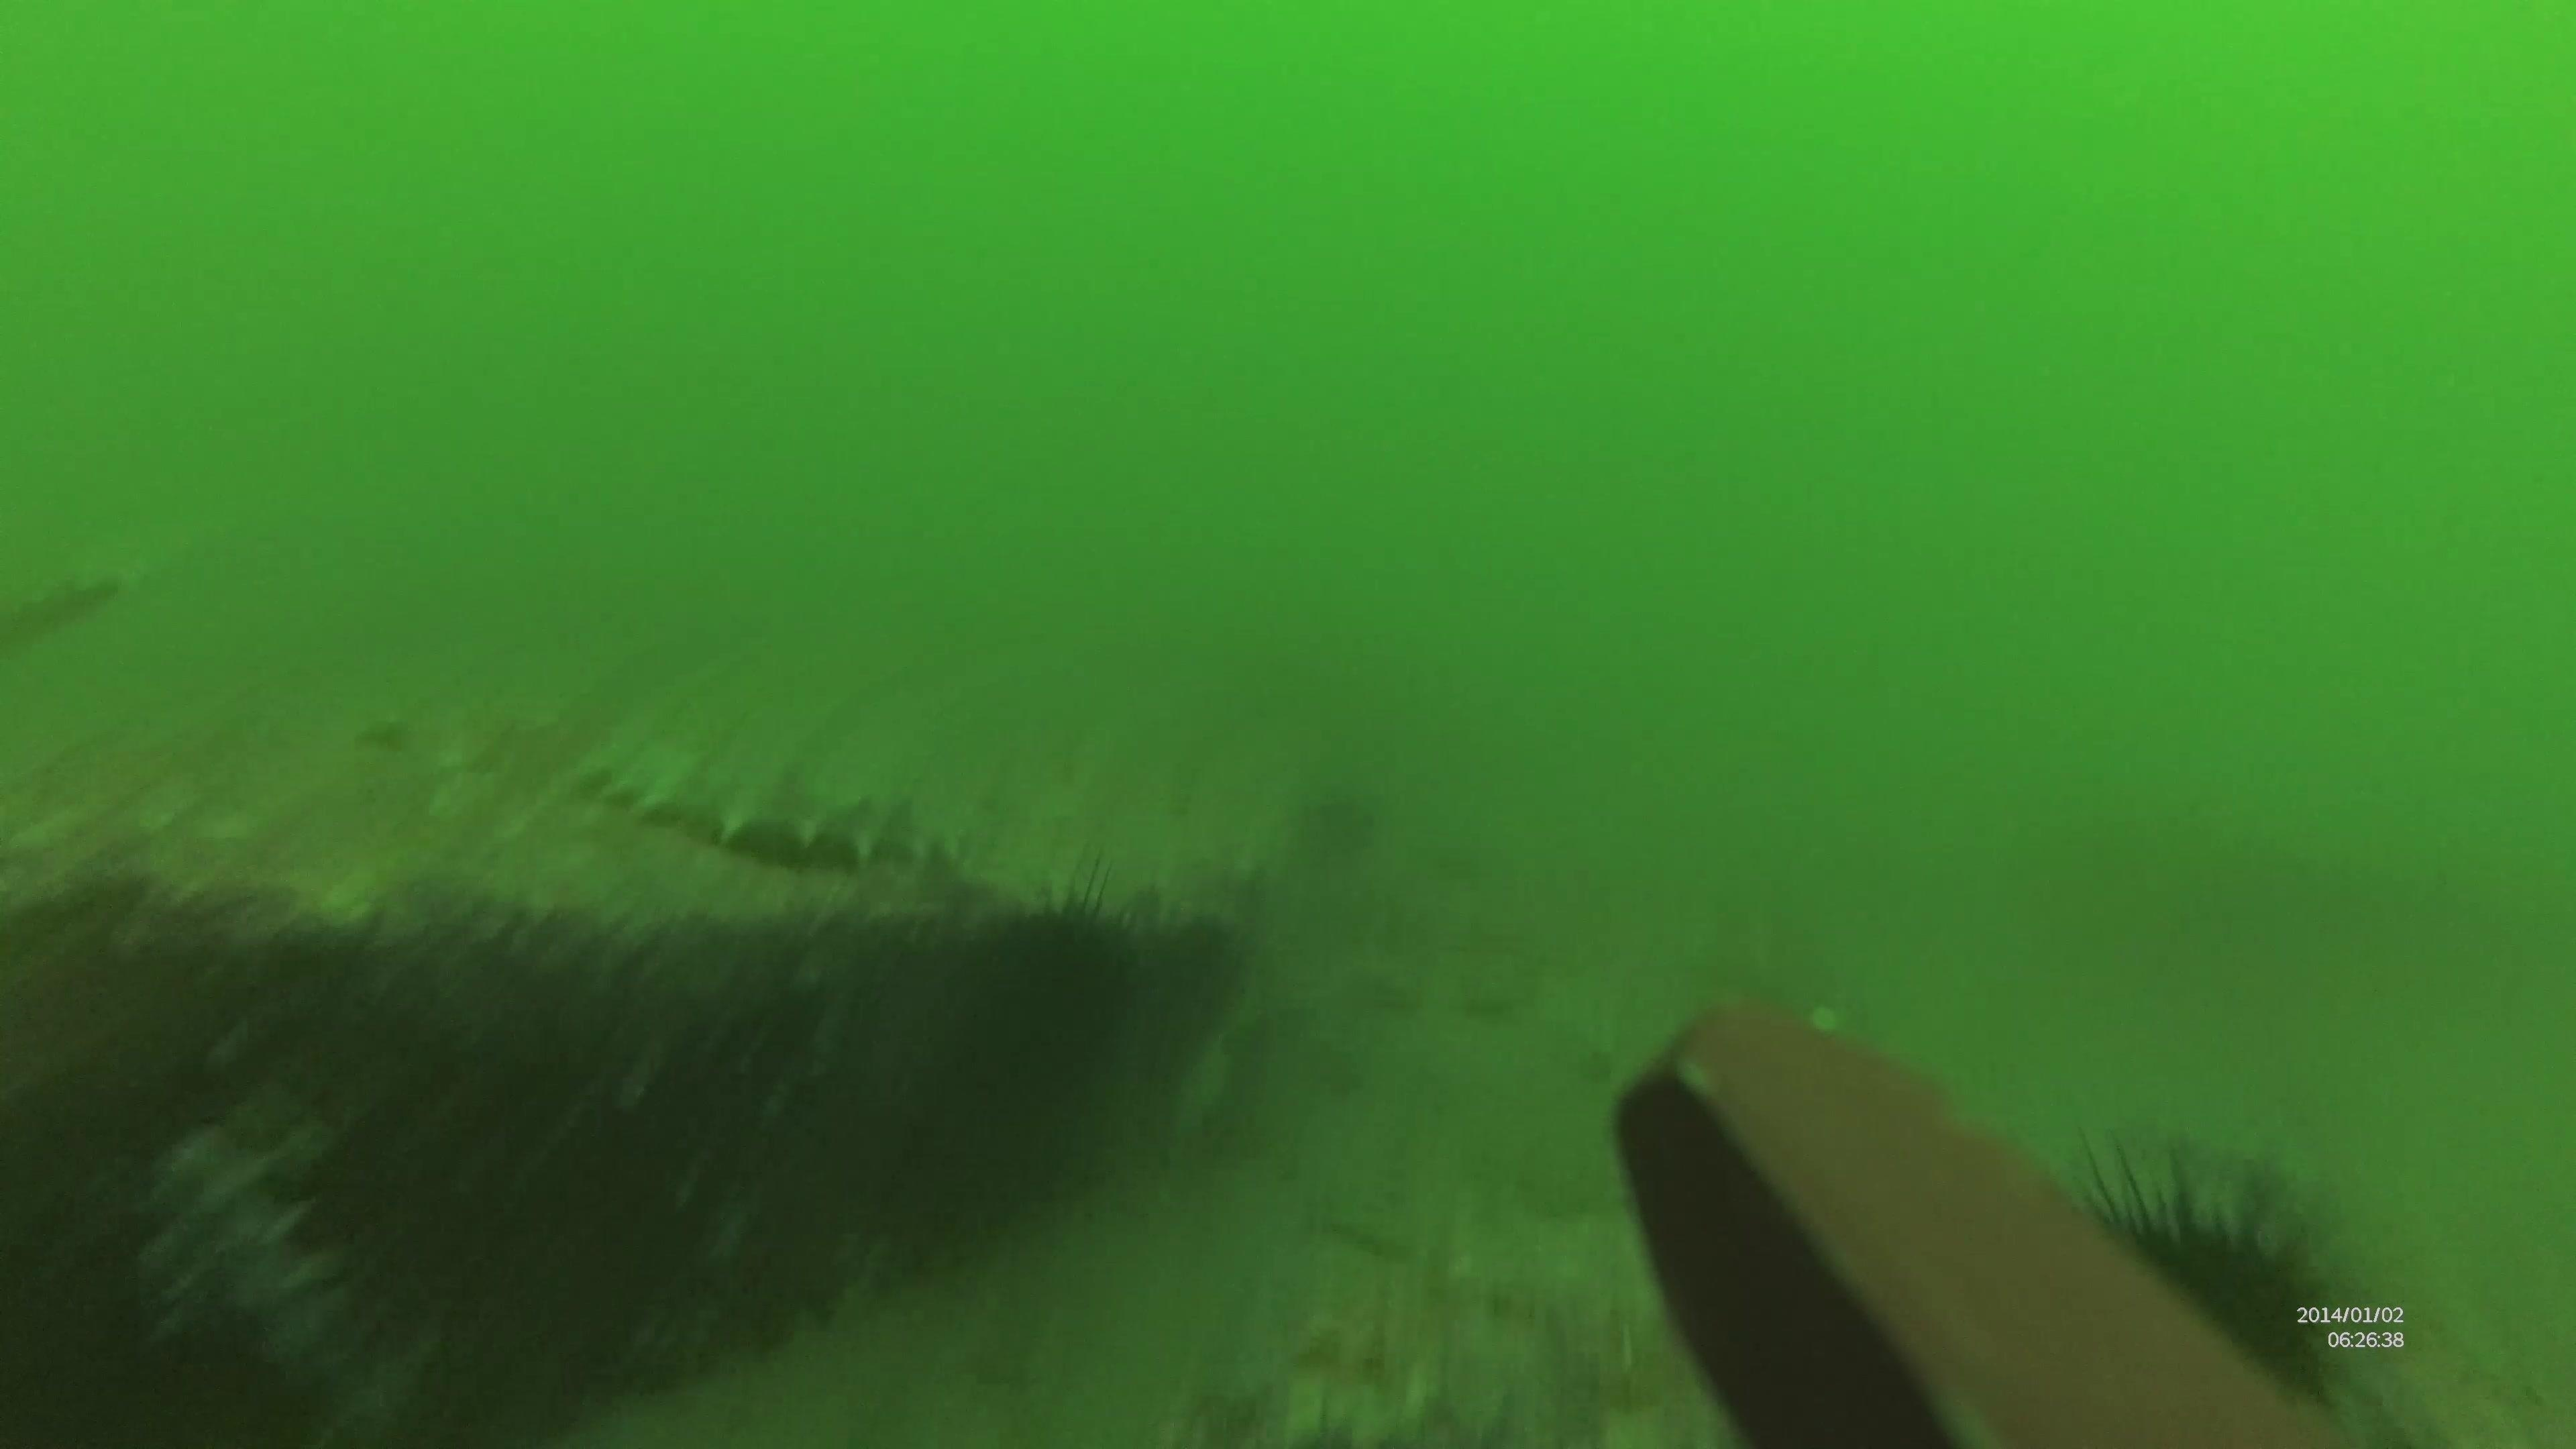echinus: (2038, 1132, 2373, 1431), (936, 874, 1162, 1115)
holothurian: (122, 1102, 380, 1399), (571, 709, 977, 885)
